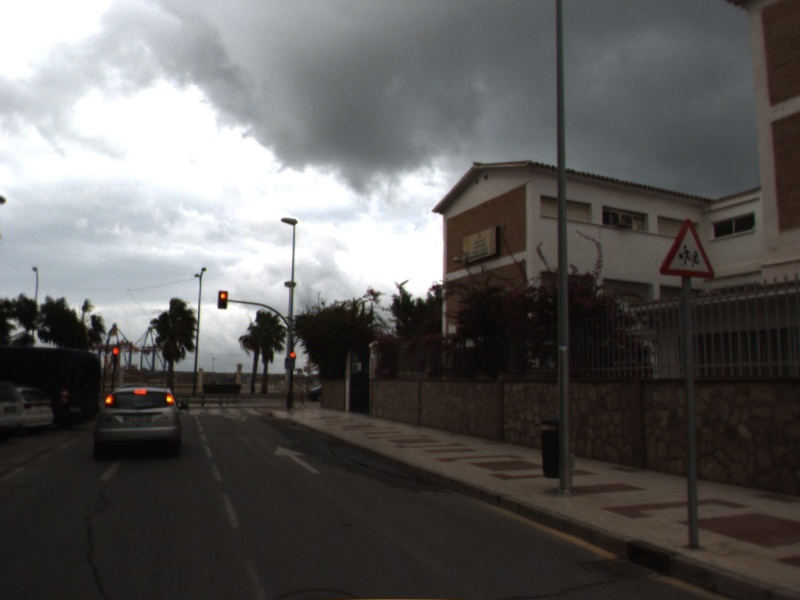STRAIGHT: (273, 444, 323, 476)
